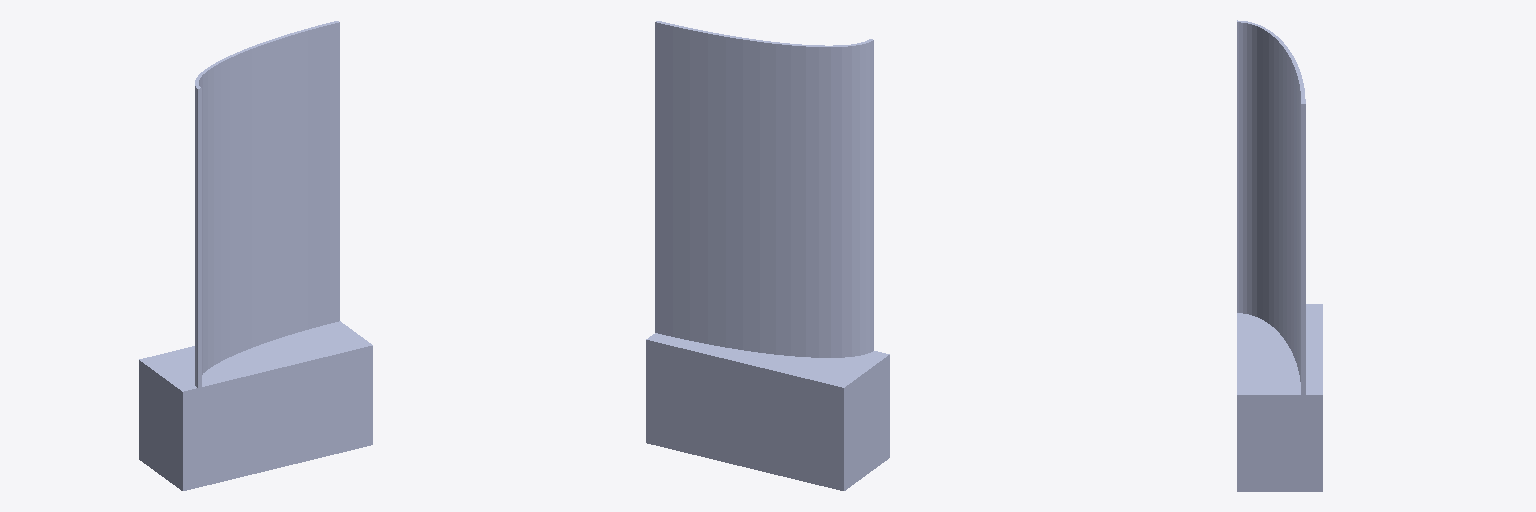
The robot description file, URDF, robot "tuopu":
 <robot name="tuopu">
	<link name="link_base">
		<visual>
		  <origin xyz="0. 0. 0." rpy="0. 0. 0." />
		  <geometry>
			<mesh filename="Geometry/workpiece.obj" scale="0.001 0.001 0.001" />
		  </geometry>
		  <material
			name="color0">
			<color rgba="0.792156862745098 0.819607843137255 0.933333333333333 0.8" />
		  </material>
		</visual>
		<collision>
          <origin rpy="0 0 0" xyz="0 0 0"/>
          <geometry>
            <mesh filename="Geometry/workpiece_vhacd.obj" scale="0.001 0.001 0.001" />
          </geometry>
        </collision>
    </link>
</robot>

--- What the picture shows (computed from the rendered views, not written in the file) ---
Views: 3 orthographic renders of the robot side by side, from view 1: azimuth 30°, elevation 25°; view 2: azimuth 150°, elevation 25°; view 3: azimuth 270°, elevation 25°.
Model tuopu with 1 links and 0 joints (none), rooted at link_base, posed every joint at zero.
Visible links, largest first — view 1: link_base; view 2: link_base; view 3: link_base.
Link boxes in pixels (box(x1,y1,x2,y2)): link_base: box(139, 21, 372, 490); link_base: box(646, 21, 889, 490); link_base: box(1237, 20, 1322, 491).
Bounding box of the posed robot: 0.2 × 0.08 × 0.4 m (x, y, z).
Meshes: 1 distinct files referenced, 1 mesh visuals loaded (1 OBJ).